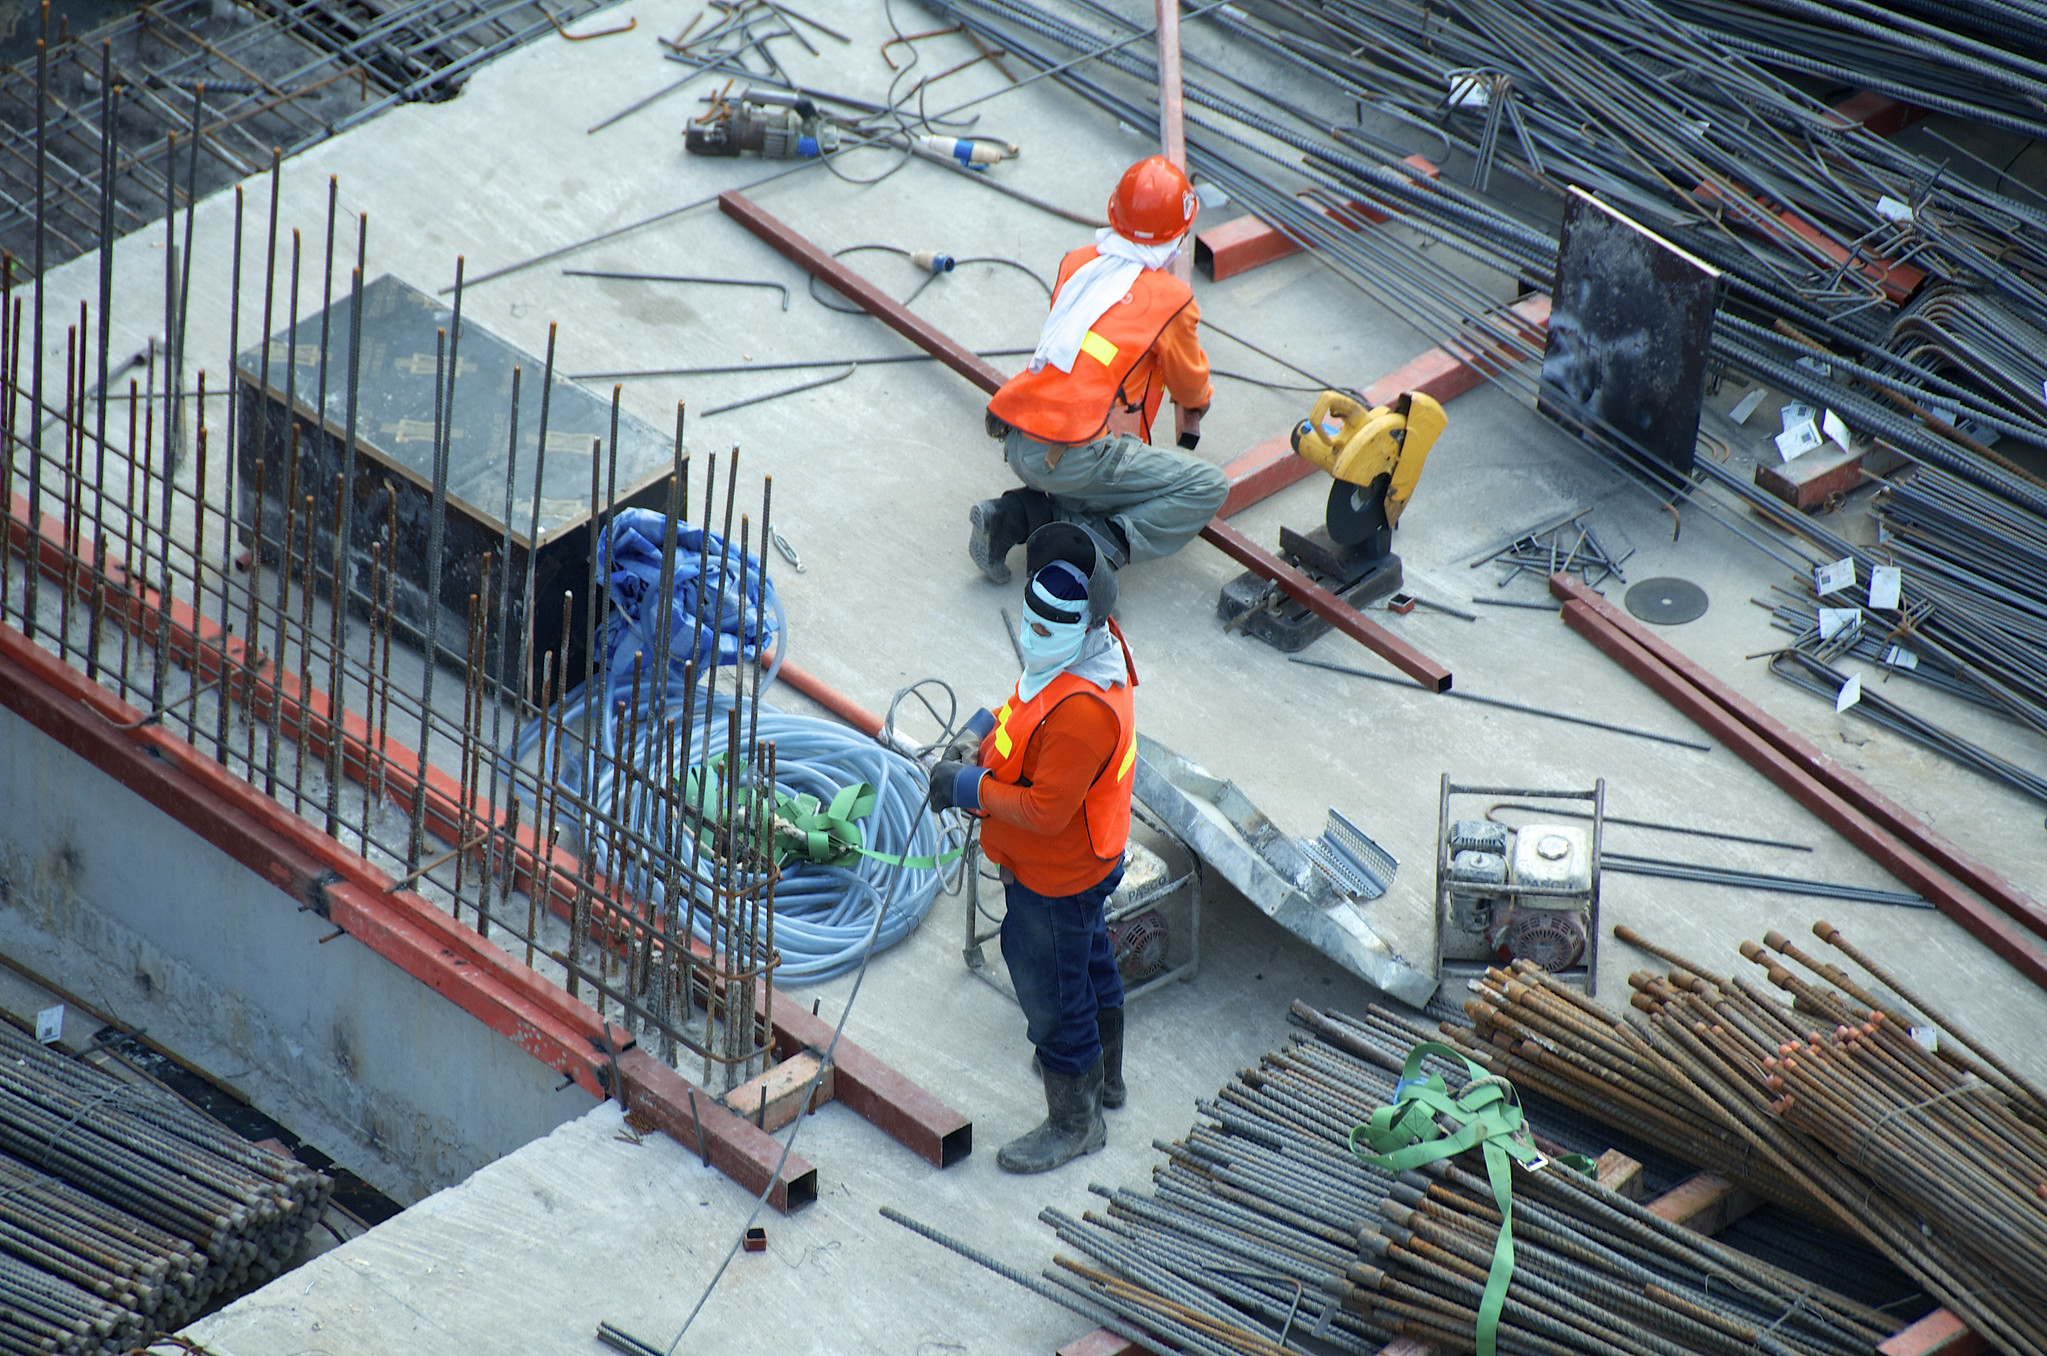Helmet: (1097, 147, 1210, 257)
Reflective vest: (991, 241, 1204, 454), (976, 652, 1153, 882)
